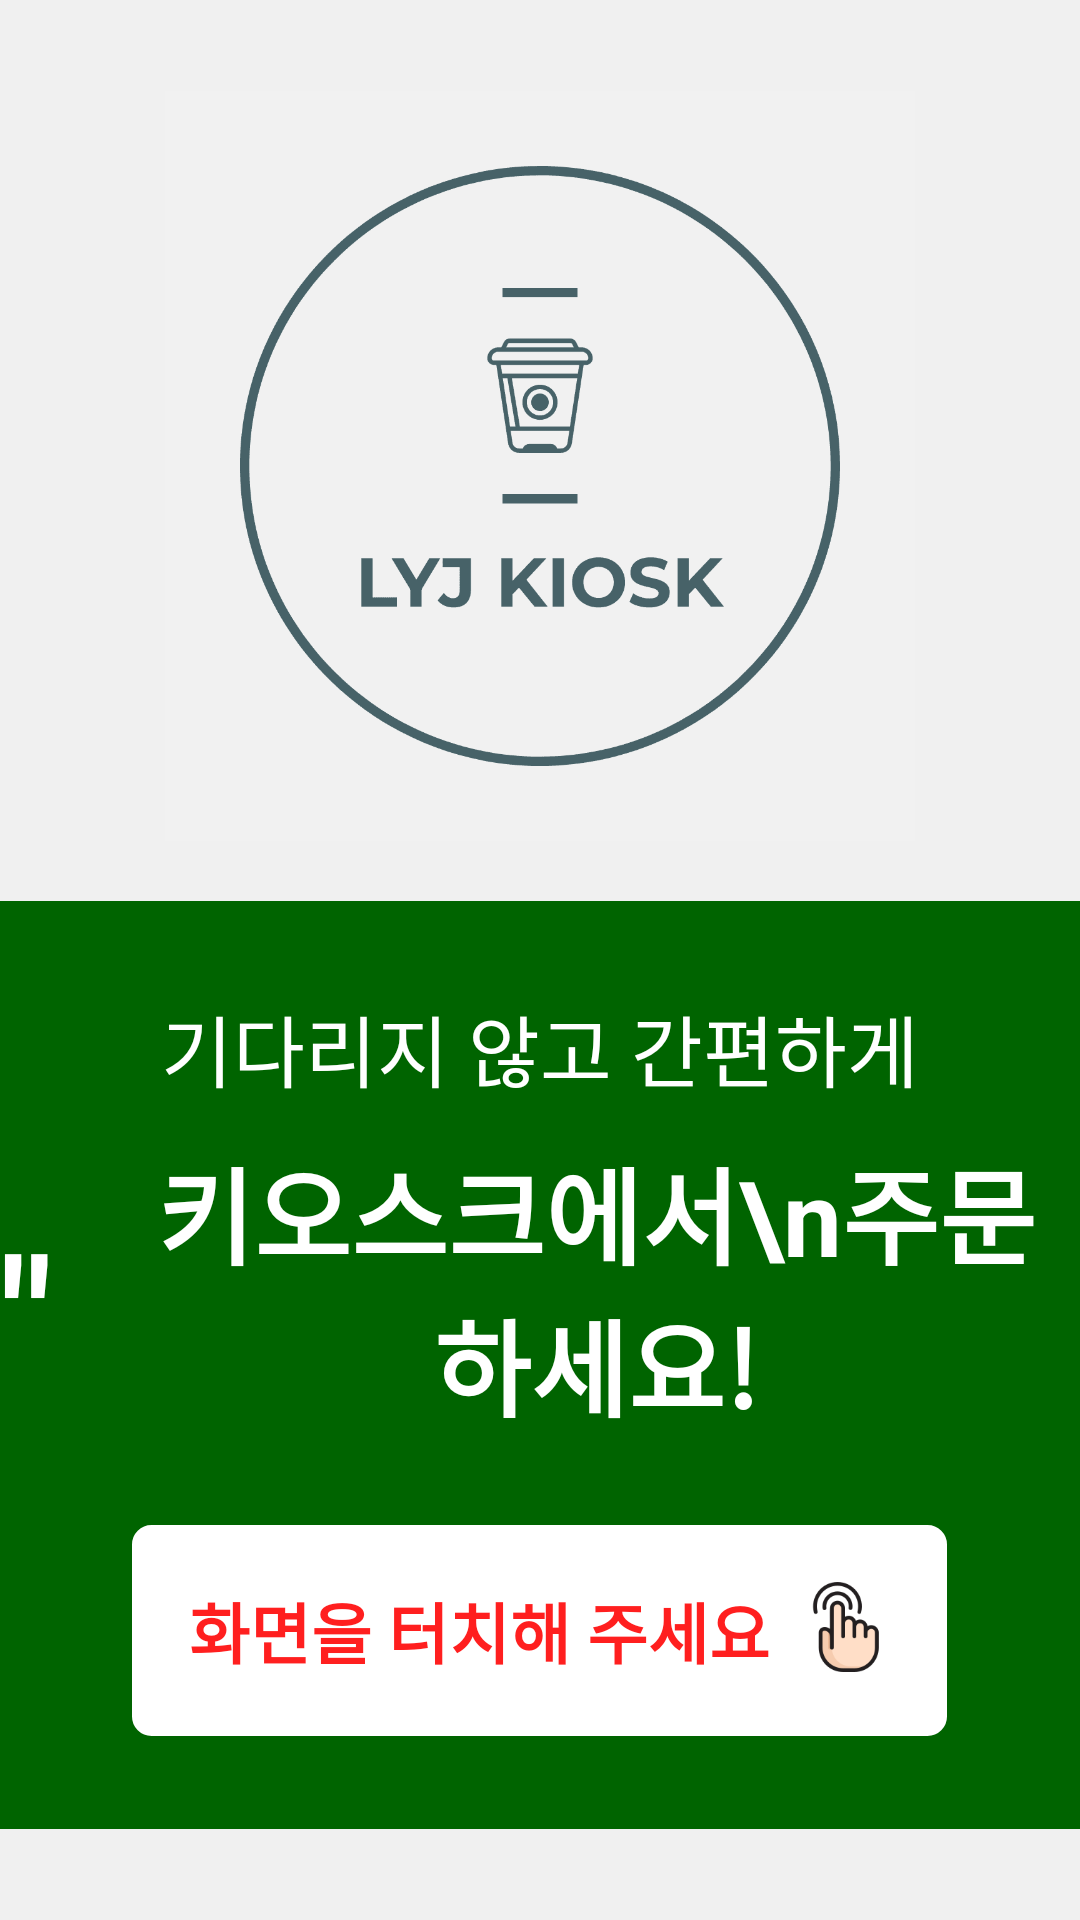

Icons on this 1080px×1920px Android screen, each with its box as [x1, y1, x2, y2]:
touch: [813, 1582, 879, 1672]
